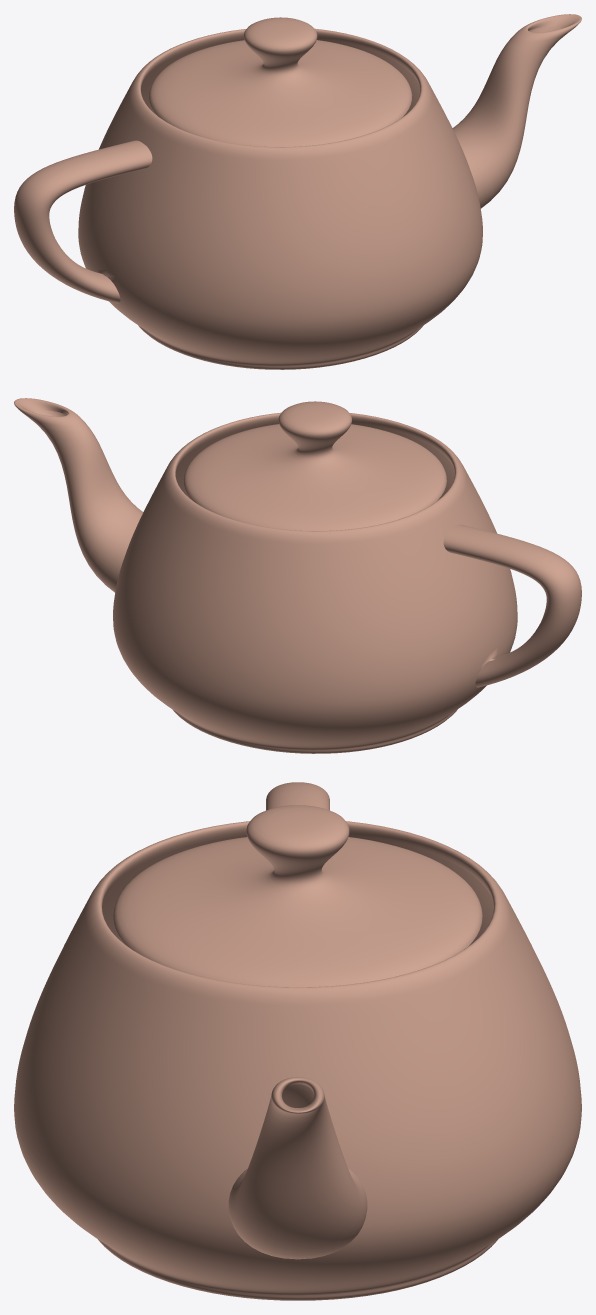
The model's file is Teapot.obj.
3 views of the same model, one above another, from view 1: azimuth 30°, elevation 25°; view 2: azimuth 150°, elevation 25°; view 3: azimuth 270°, elevation 25° (orthographic). The views are drawn at different scales.
Visible parts, largest first — view 1: 5, 4, 9, 25, 16, 24, 6, 26, 12, 8, 14, 1 (+13 smaller); view 2: 6, 7, 10, 26, 17, 27, 5, 25, 13, 11, 15, 2 (+13 smaller); view 3: 7, 4, 24, 27, 11, 8, 16, 17, 25, 26, 0, 3 (+10 smaller).
Boxes of the visible parts, x1=… form: 5: x1=106, y1=128, x2=381, y2=318; 4: x1=356, y1=85, x2=482, y2=306; 9: x1=108, y1=278, x2=381, y2=366; 25: x1=167, y1=73, x2=344, y2=146; 16: x1=457, y1=34, x2=566, y2=208; 24: x1=291, y1=63, x2=412, y2=140; 6: x1=78, y1=46, x2=202, y2=275; 26: x1=149, y1=45, x2=263, y2=122; 12: x1=18, y1=143, x2=152, y2=220; 8: x1=356, y1=240, x2=482, y2=357; 14: x1=18, y1=215, x2=120, y2=303; 1: x1=150, y1=117, x2=356, y2=160; 6: x1=214, y1=512, x2=489, y2=702; 7: x1=113, y1=469, x2=239, y2=690; 10: x1=214, y1=662, x2=487, y2=750; 26: x1=251, y1=457, x2=428, y2=530; 17: x1=29, y1=418, x2=138, y2=592; 27: x1=183, y1=447, x2=304, y2=524; 5: x1=393, y1=430, x2=517, y2=659; 25: x1=332, y1=429, x2=446, y2=506; 13: x1=443, y1=527, x2=577, y2=604; 11: x1=113, y1=624, x2=239, y2=741; 15: x1=475, y1=599, x2=577, y2=687; 2: x1=239, y1=501, x2=445, y2=544; 7: x1=298, y1=916, x2=581, y2=1225; 4: x1=14, y1=916, x2=297, y2=1225; 24: x1=113, y1=877, x2=297, y2=987; 27: x1=298, y1=877, x2=482, y2=987; 11: x1=298, y1=1111, x2=581, y2=1295; 8: x1=14, y1=1111, x2=297, y2=1295; 16: x1=228, y1=1084, x2=297, y2=1259; 17: x1=298, y1=1084, x2=367, y2=1259; 25: x1=113, y1=837, x2=273, y2=915; 26: x1=322, y1=837, x2=482, y2=915; 0: x1=85, y1=903, x2=297, y2=1005; 3: x1=298, y1=903, x2=510, y2=1005.
Size of the model in its own units: 0.7842 by 0.3839 by 0.4875.
